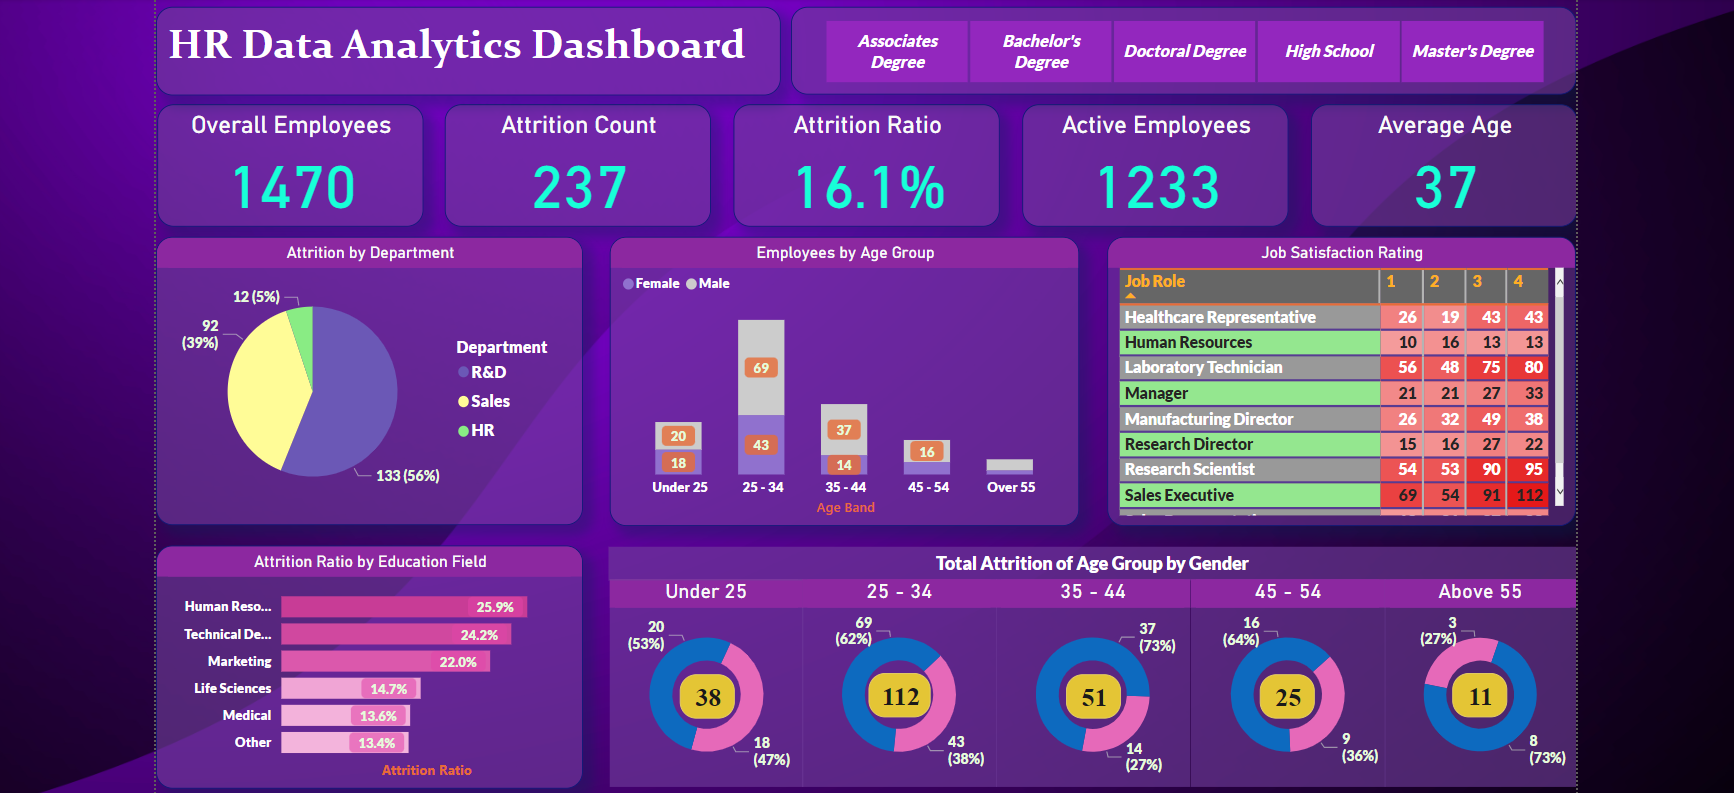

Layout of this report page (visuals, bound fields, positions):
{"tool":"powerbi","page":{"name":"Page 1","canvas":[1280,720],"ordinal":0},"visuals":[{"type":"card","title":"Overall Employees","fields":{"Values":["Sum(HR data.Employee Count)"]},"box":[0.7,95.2,240,110],"z":0},{"type":"card","title":"Attrition Count","fields":{"Values":["Sum(HR data.Attrition Count)"]},"box":[260.7,95.2,240,110],"z":1000},{"type":"card","title":"Attrition Ratio","fields":{"Values":["HR data.Attrition Ratio"]},"box":[520.7,95.2,240,110],"z":2000},{"type":"card","title":"Active Employees","fields":{"Values":["HR data.Active Employees"]},"box":[780.7,95.2,240,110],"z":3000},{"type":"card","title":"Average Age","fields":{"Values":["Avg(HR data.Age)"]},"box":[1040.7,95.2,240,110],"z":4000},{"type":"pieChart","title":"Attrition by Department","fields":{"Category":["HR data.Department"],"Y":["Sum(HR data.Attrition Count)"]},"box":[0.3,215.4,385,260],"z":5000},{"type":"columnChart","title":"Employees by Age Group","fields":{"Category":["HR data.CF_age band"],"Y":["Sum(HR data.Attrition Count)"],"Series":["HR data.Gender"]},"box":[409.2,215.7,423.3,260.5],"z":6000},{"type":"pivotTable","title":"Job Satisfaction Rating","fields":{"Rows":["HR data.Job Role"],"Columns":["HR data.Job Satisfaction"],"Values":["Sum(HR data.Employee Count)"]},"box":[857.8,215.7,422.1,260.5],"z":7000},{"type":"clusteredBarChart","fields":{"Y":["HR data.Attrition Ratio"],"Category":["HR data.Education Field"]},"box":[0.3,494,384.7,219.5],"z":8000},{"type":"textbox","box":[0.3,8,563.1,80.1],"z":9000},{"type":"donutChart","title":"Under 25","fields":{"Category":["HR data.Gender"],"Y":["Sum(HR data.Attrition Count)"],"Series":["HR data.CF_age band"]},"box":[409.3,524.5,174.3,187],"z":10000},{"type":"textbox","box":[407.6,494.3,872.5,30],"z":11000},{"type":"donutChart","title":"25 - 34","fields":{"Category":["HR data.Gender"],"Y":["Sum(HR data.Attrition Count)"],"Series":["HR data.CF_age band"]},"box":[582.9,524.5,174.9,187],"z":12000},{"type":"donutChart","title":"35 - 44","fields":{"Category":["HR data.Gender"],"Y":["Sum(HR data.Attrition Count)"],"Series":["HR data.CF_age band"]},"box":[757.7,524.5,174.9,187],"z":13000},{"type":"donutChart","title":"45 - 54","fields":{"Category":["HR data.Gender"],"Y":["Sum(HR data.Attrition Count)"],"Series":["HR data.CF_age band"]},"box":[932.6,524.5,174.9,187],"z":14000},{"type":"donutChart","title":"Above 55","fields":{"Category":["HR data.Gender"],"Y":["Sum(HR data.Attrition Count)"],"Series":["HR data.CF_age band"]},"box":[1107.5,524.5,172.5,187],"z":15000},{"type":"card","fields":{"Values":["Sum(HR data.Attrition Count)"]},"box":[471.9,609.6,49.4,39.8],"z":16000},{"type":"card","fields":{"Values":["Sum(HR data.Attrition Count)"]},"box":[642.5,608.7,56,39.8],"z":17000},{"type":"card","fields":{"Values":["Sum(HR data.Attrition Count)"]},"box":[820.4,609.3,49.4,39.8],"z":18000},{"type":"card","fields":{"Values":["Sum(HR data.Attrition Count)"]},"box":[994.7,609,49.4,39.8],"z":19000},{"type":"card","fields":{"Values":["Sum(HR data.Attrition Count)"]},"box":[1169,608.4,49.4,39.8],"z":20000},{"type":"slicer","fields":{"Values":["HR data.Education"]},"box":[572,8,707.9,79.6],"z":21000}]}

Visuals, with their boxes on the page's 1280x720 design canvas (x1, y1, x2, y2). These are canvas units, not pixel positions in the 1734x793 screenshot, which may show the page scaled, cropped or inside an application window:
"Overall Employees" card: (x1=1, y1=95, x2=241, y2=205)
"Attrition Count" card: (x1=261, y1=95, x2=501, y2=205)
"Attrition Ratio" card: (x1=521, y1=95, x2=761, y2=205)
"Active Employees" card: (x1=781, y1=95, x2=1021, y2=205)
"Average Age" card: (x1=1041, y1=95, x2=1281, y2=205)
"Attrition by Department" pieChart: (x1=0, y1=215, x2=385, y2=475)
"Employees by Age Group" columnChart: (x1=409, y1=216, x2=832, y2=476)
"Job Satisfaction Rating" pivotTable: (x1=858, y1=216, x2=1280, y2=476)
clusteredBarChart - HR data.Attrition Ratio x HR data.Education Field: (x1=0, y1=494, x2=385, y2=714)
textbox: (x1=0, y1=8, x2=563, y2=88)
"Under 25" donutChart: (x1=409, y1=524, x2=584, y2=712)
textbox: (x1=408, y1=494, x2=1280, y2=524)
"25 - 34" donutChart: (x1=583, y1=524, x2=758, y2=712)
"35 - 44" donutChart: (x1=758, y1=524, x2=933, y2=712)
"45 - 54" donutChart: (x1=933, y1=524, x2=1108, y2=712)
"Above 55" donutChart: (x1=1108, y1=524, x2=1280, y2=712)
card - Sum(HR data.Attrition Count): (x1=472, y1=610, x2=521, y2=649)
card - Sum(HR data.Attrition Count): (x1=642, y1=609, x2=698, y2=648)
card - Sum(HR data.Attrition Count): (x1=820, y1=609, x2=870, y2=649)
card - Sum(HR data.Attrition Count): (x1=995, y1=609, x2=1044, y2=649)
card - Sum(HR data.Attrition Count): (x1=1169, y1=608, x2=1218, y2=648)
slicer - HR data.Education: (x1=572, y1=8, x2=1280, y2=88)
